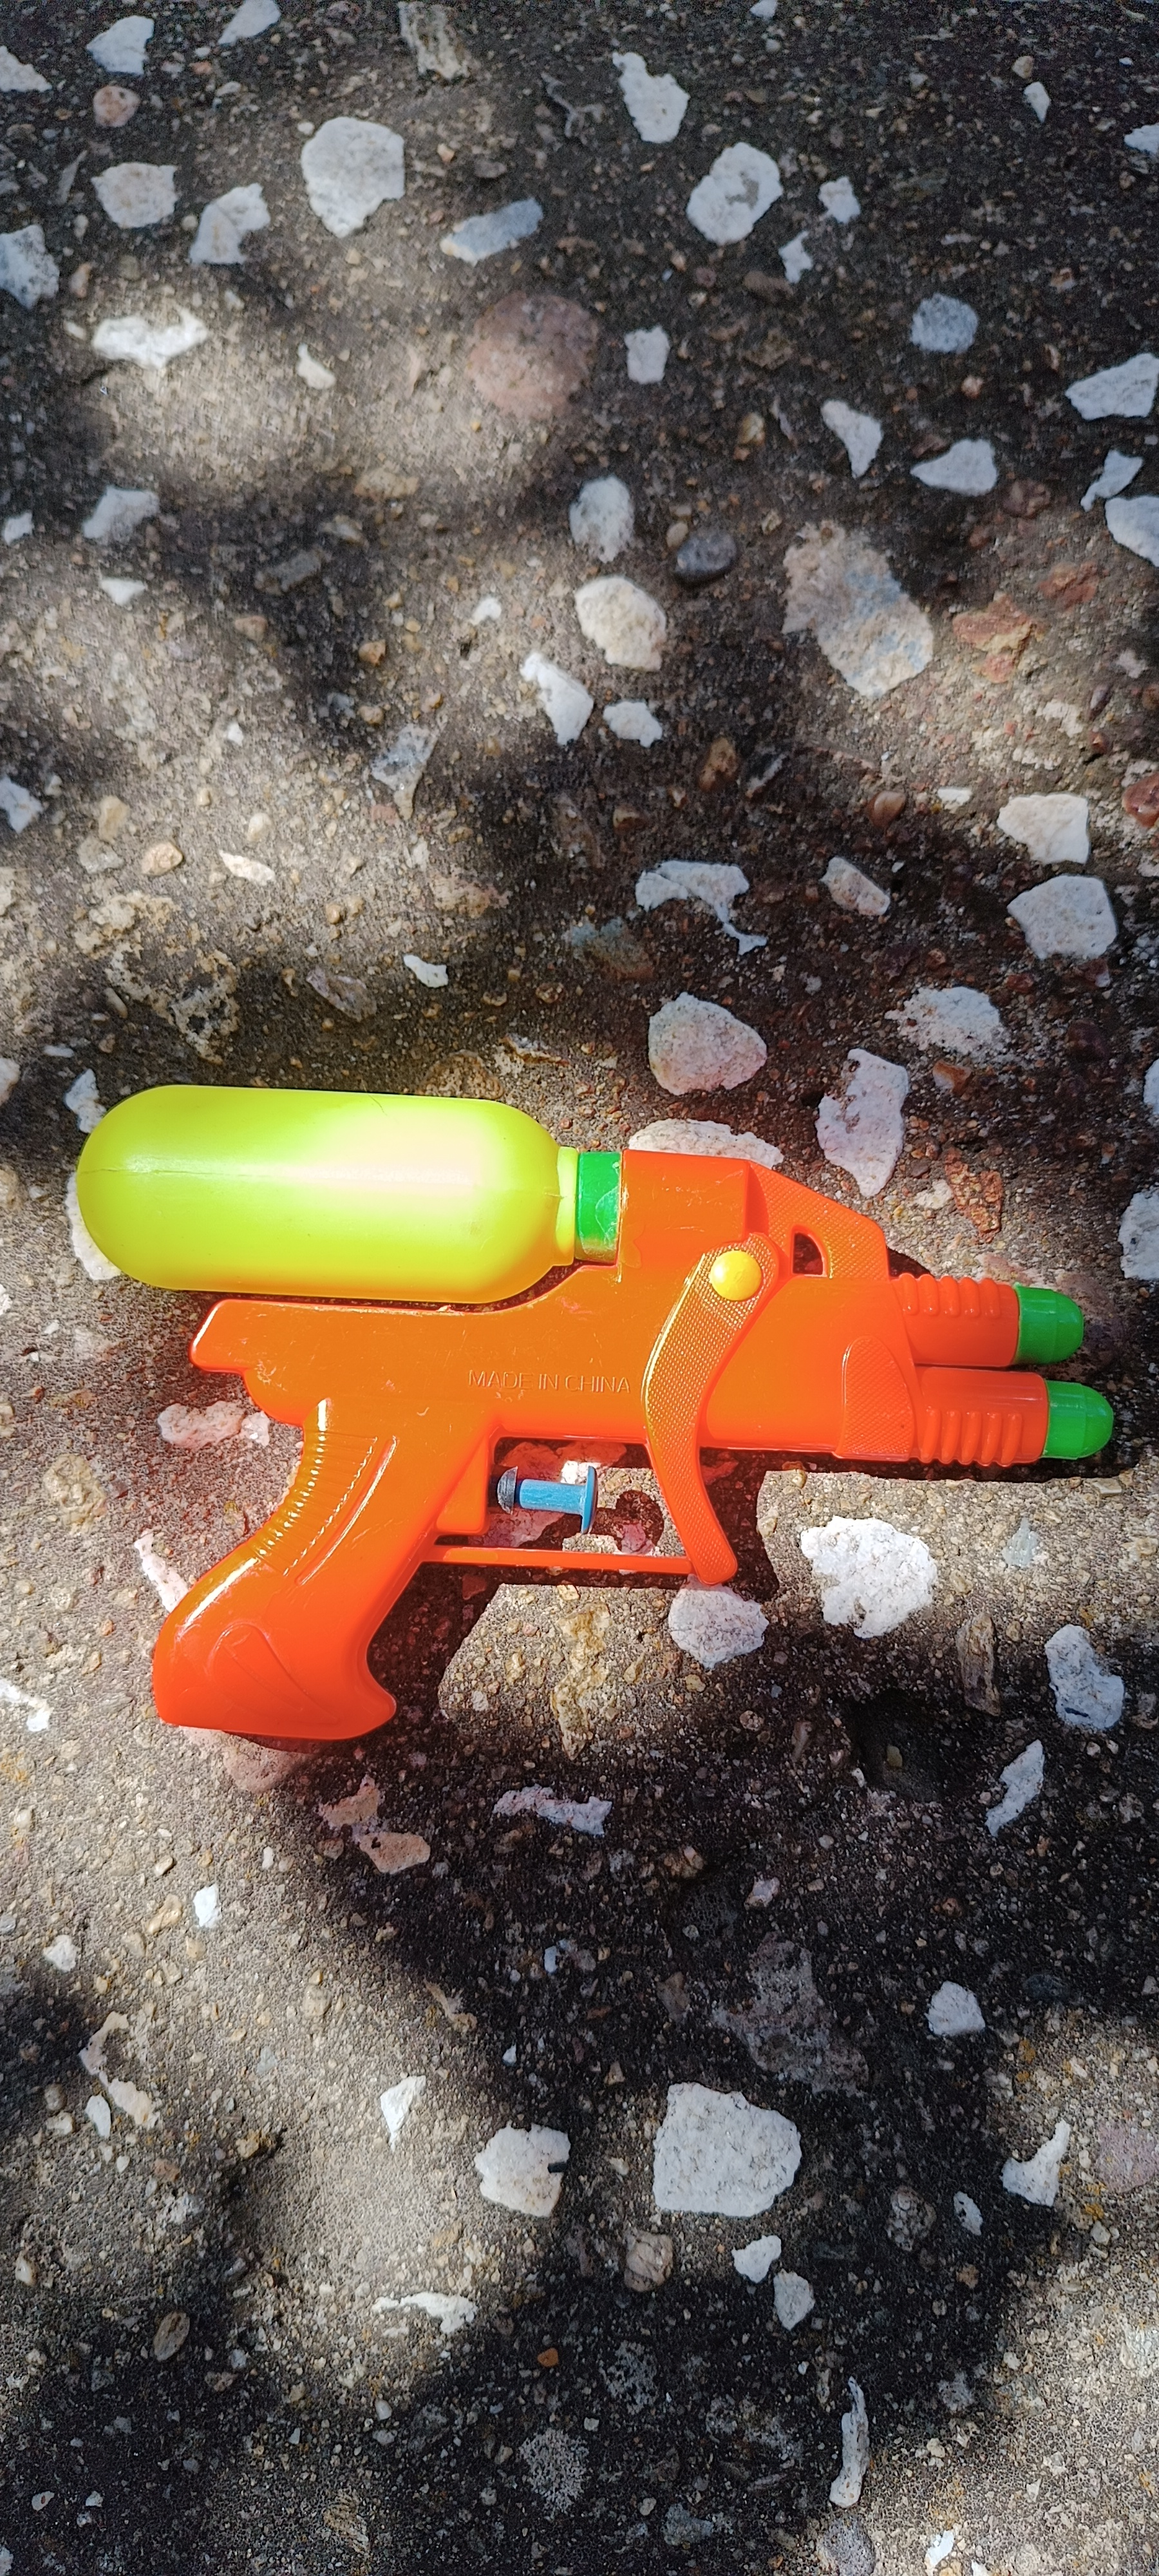Water Gun: (74, 1086, 1118, 1745)
